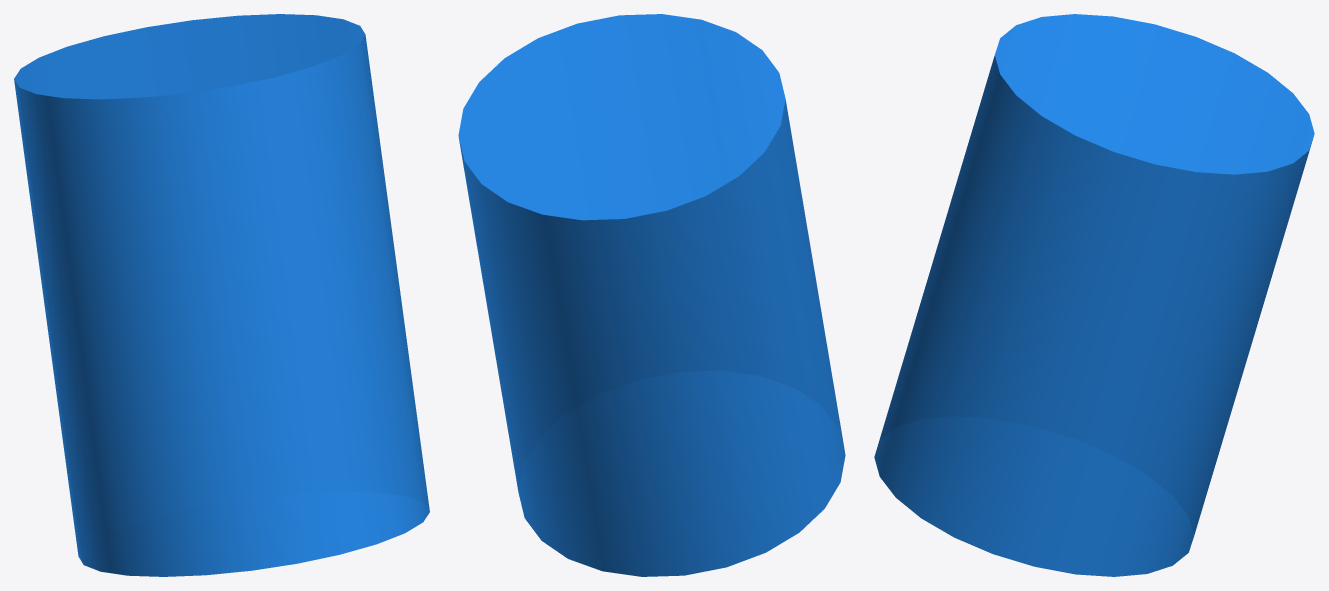
Rendered from Event_194851961_MET.fbx.
3 renders of one model, left to right at view 1: azimuth 30°, elevation 25°; view 2: azimuth 150°, elevation 25°; view 3: azimuth 270°, elevation 25°, orthographic. The views are drawn at different scales.
Visible parts, largest first — view 1: Model; view 2: Model; view 3: Model.
Boxes of the visible parts, x1,y1,x2,y2 form: Model: (14, 14, 429, 576); Model: (458, 14, 845, 576); Model: (874, 14, 1314, 576).
Bounding box in the file's own units: 0.04 × 0.064 × 0.0531.
